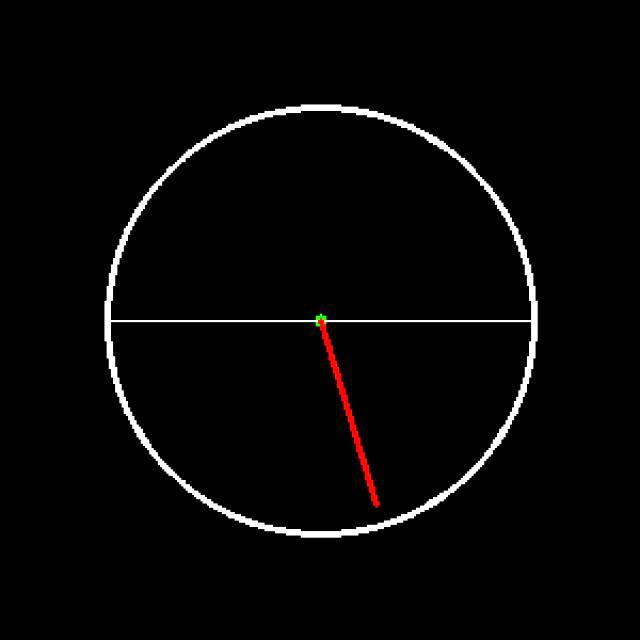Needle_Tip: (333, 466, 416, 528)
Needle_base: (295, 296, 355, 353)
